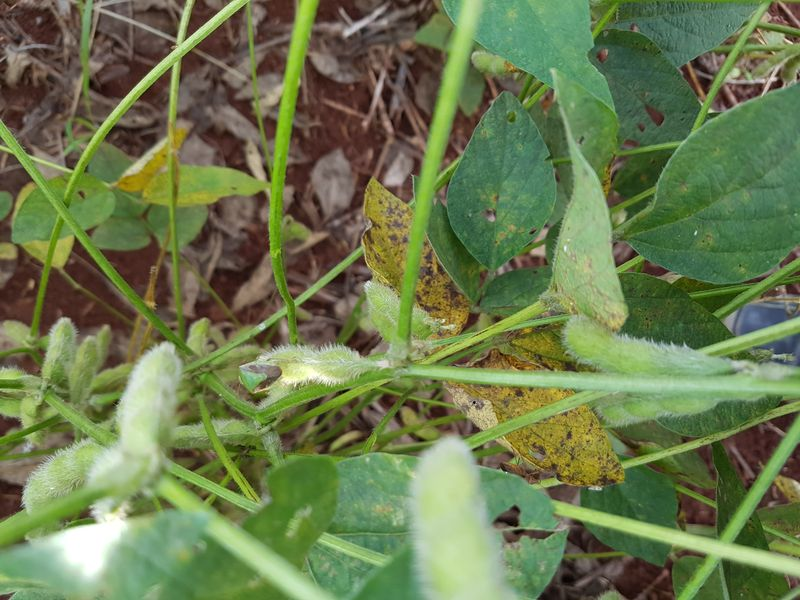Edessa_meditabunda: (222, 349, 291, 408)
